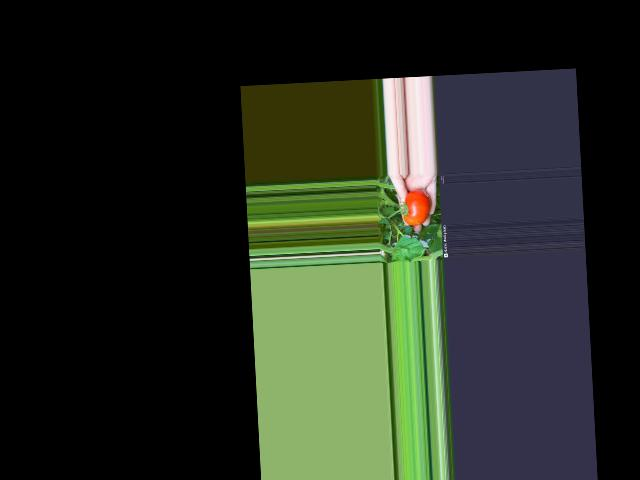tomato: (402, 188, 431, 225)
